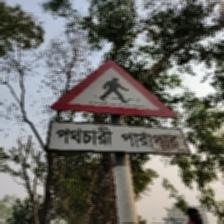Pedestrian-crossing: (47, 58, 189, 155)
